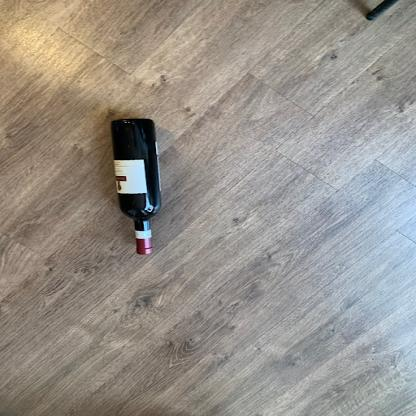trash: (107, 117, 164, 258)
